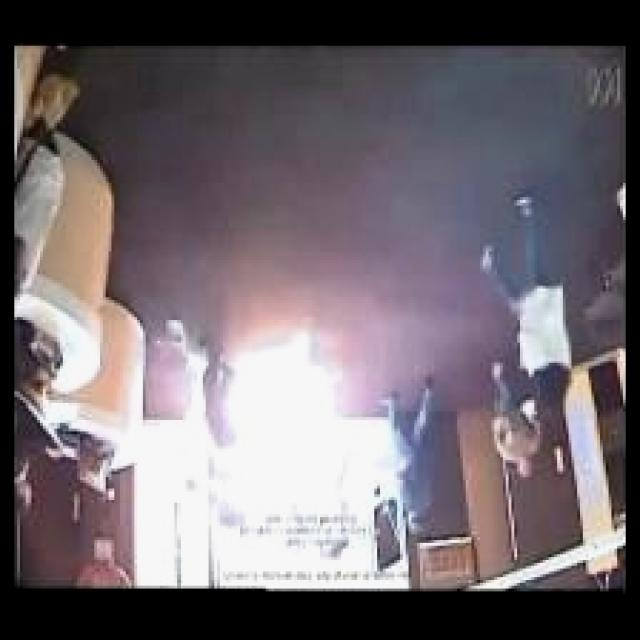fire: (187, 317, 347, 517)
